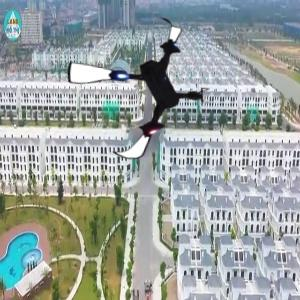drone: (63, 13, 214, 164)
